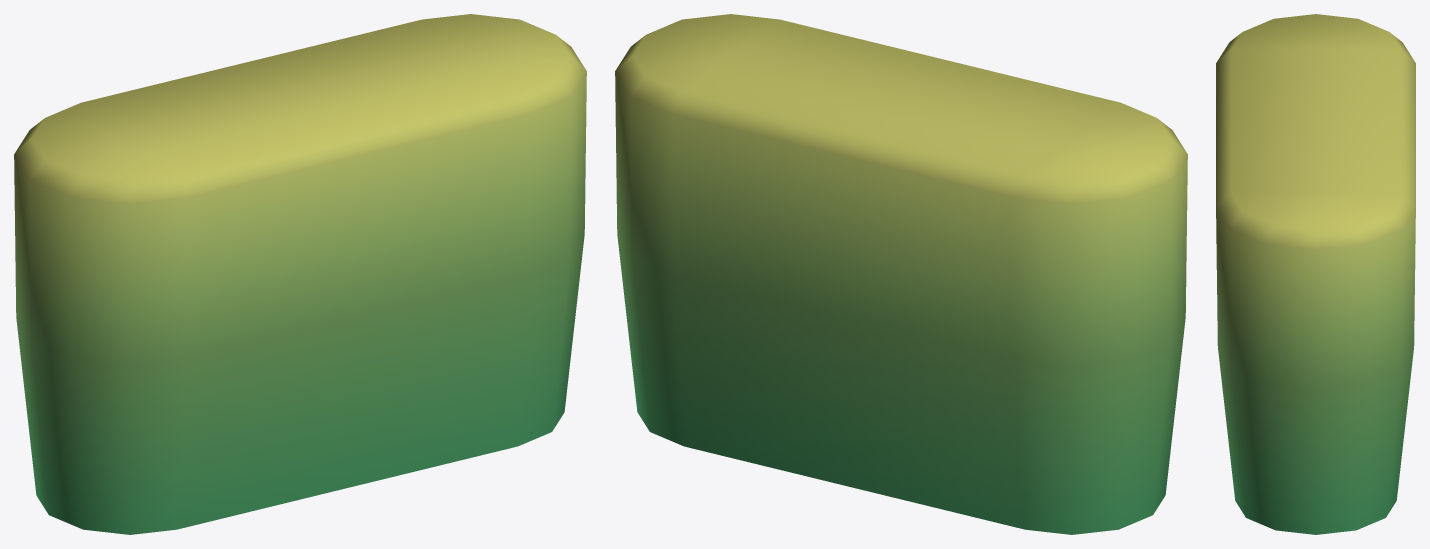
File: Hedge_Round_Long_01.fbx
3 views of the same model, side by side, from view 1: azimuth 30°, elevation 25°; view 2: azimuth 150°, elevation 25°; view 3: azimuth 270°, elevation 25° (orthographic). The views are drawn at different scales.
Parts seen in each view (by area): view 1: Hedge_Round_Long_01; view 2: Hedge_Round_Long_01; view 3: Hedge_Round_Long_01.
Boxes of the visible parts, box(x1,y1,x2,y2) form: Hedge_Round_Long_01: box(14, 14, 586, 534); Hedge_Round_Long_01: box(615, 14, 1187, 534); Hedge_Round_Long_01: box(1216, 14, 1415, 534).
Size of the model in its own units: 318 by 200 by 118.
